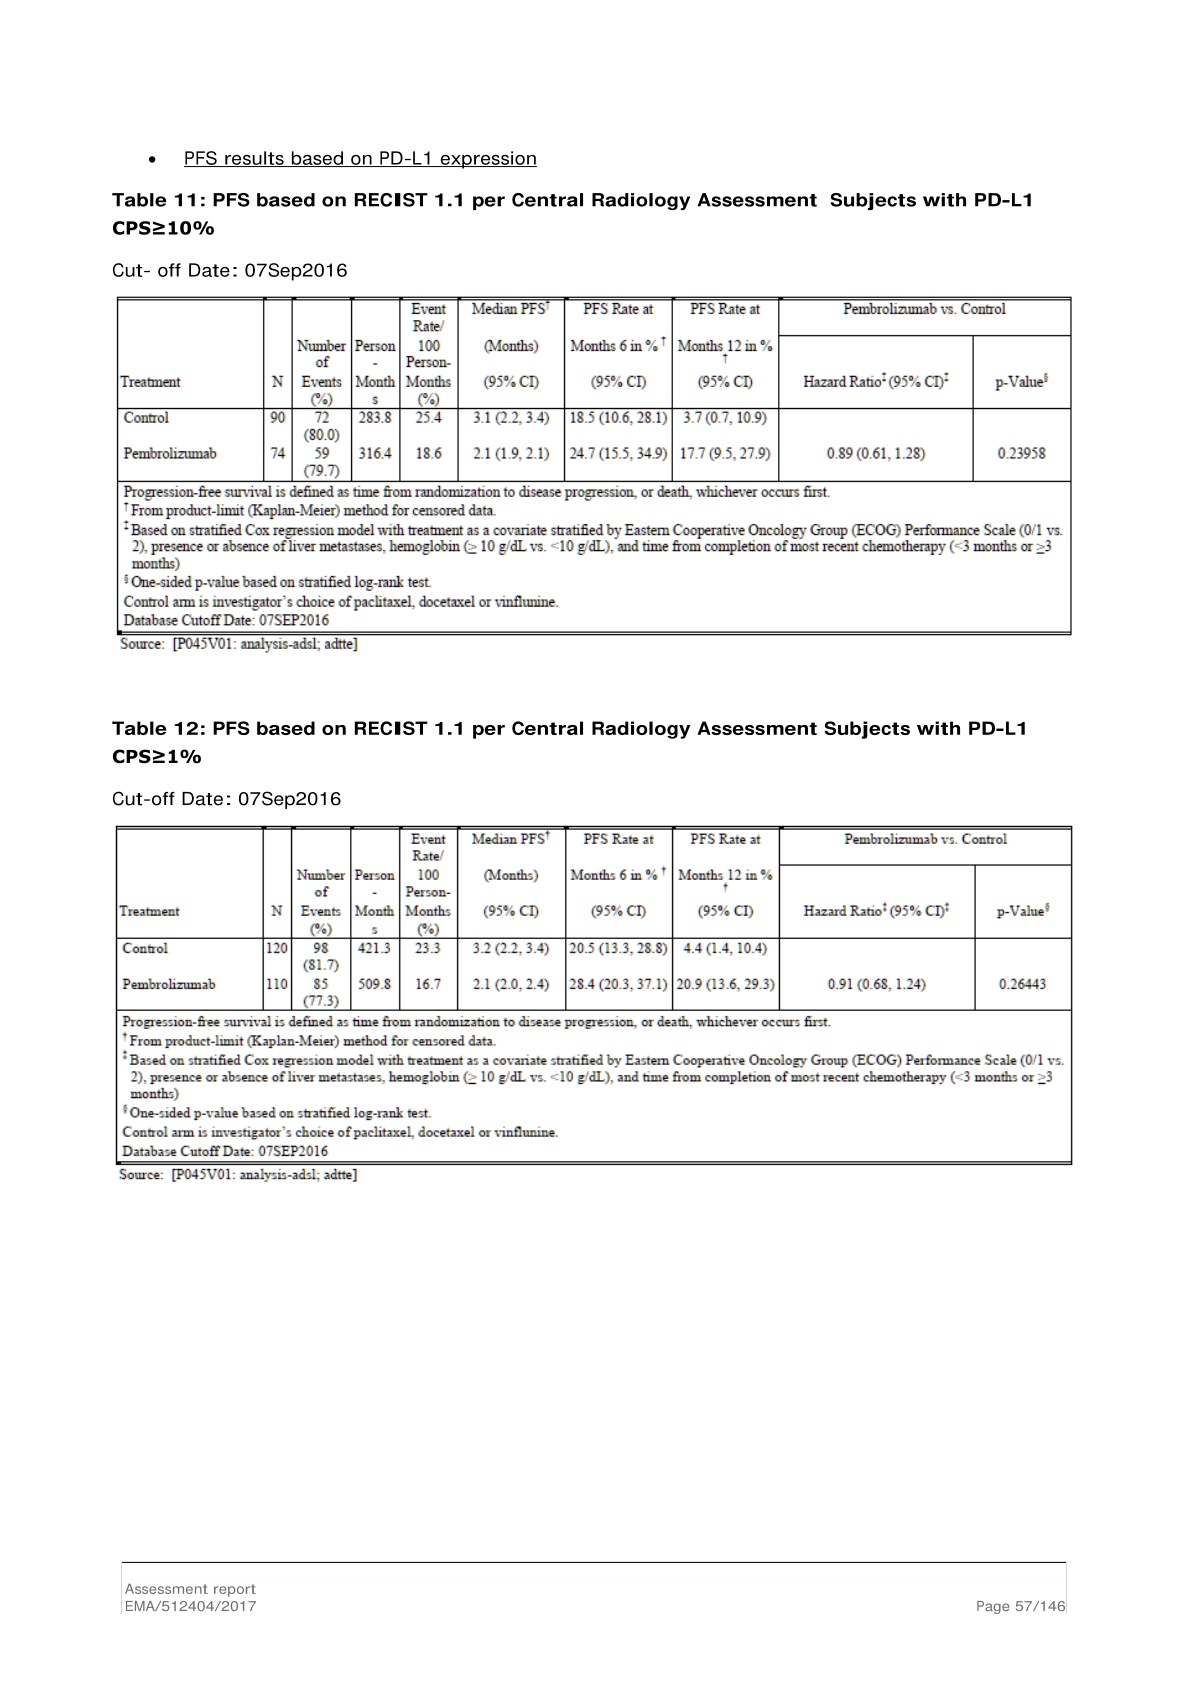merged_cells: (115, 824, 1073, 1167), (116, 295, 1073, 638)
